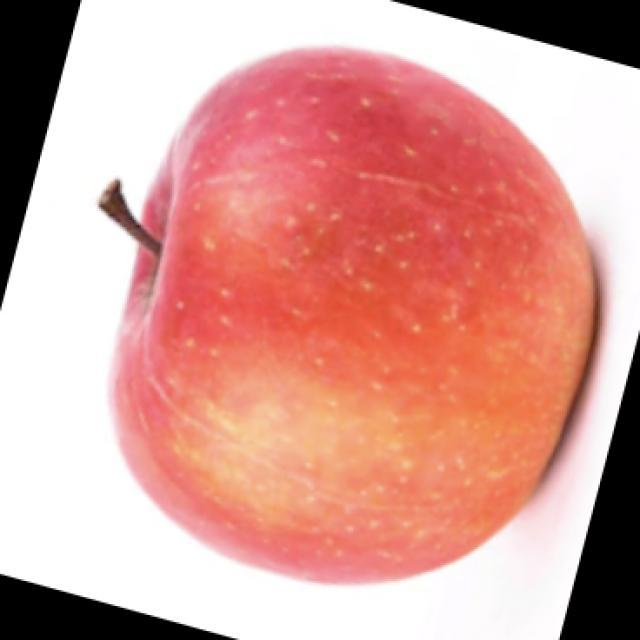Fresh Apple: (116, 41, 596, 592)
